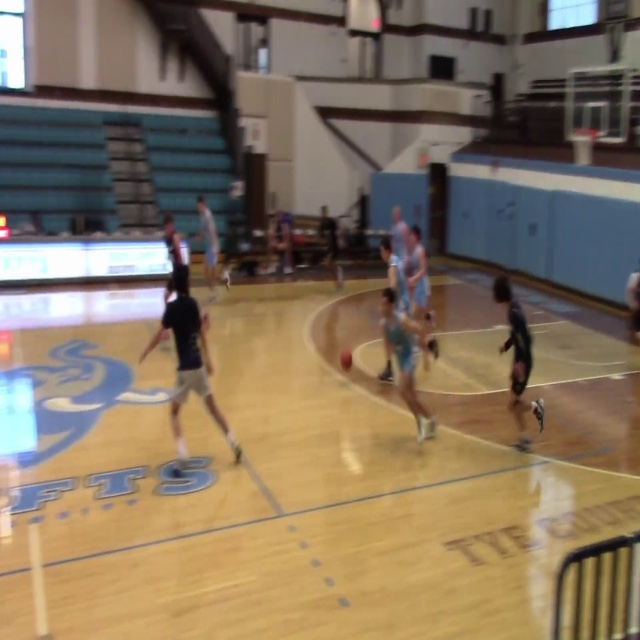Basketball: (339, 349, 352, 370), (512, 362, 525, 382)
